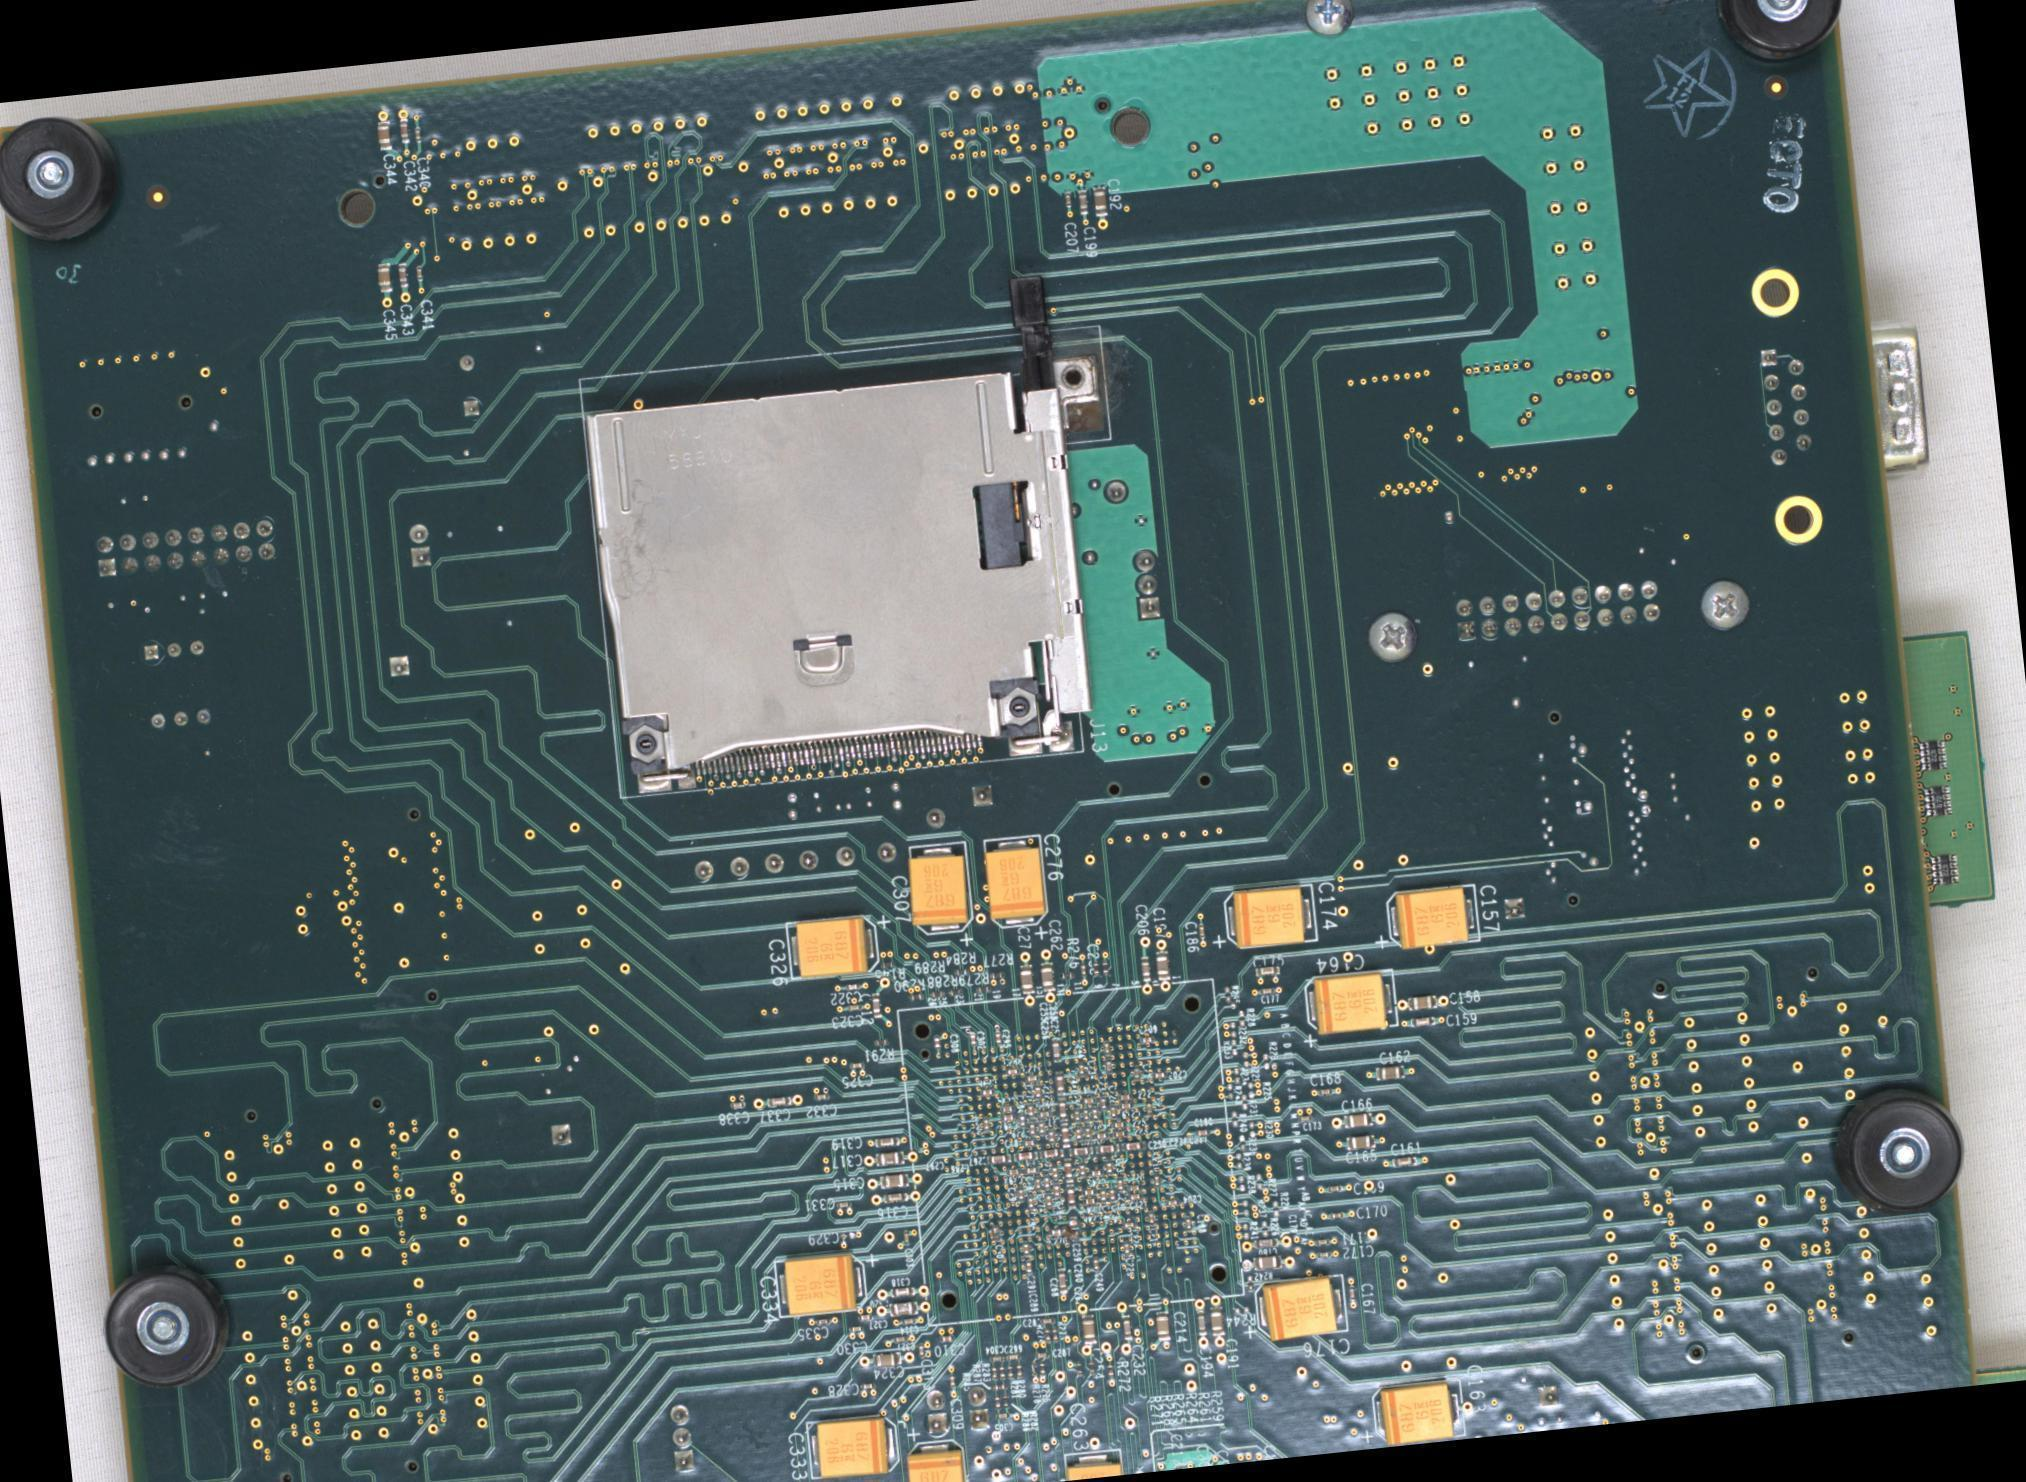Capacitor: (375, 120, 391, 149), (375, 262, 392, 292), (1208, 1305, 1224, 1335), (1406, 994, 1435, 1011), (1252, 1253, 1281, 1270), (1016, 963, 1032, 993), (1037, 961, 1053, 991), (1153, 950, 1169, 980), (1374, 1064, 1404, 1080), (875, 1150, 904, 1165), (1343, 1111, 1373, 1127), (878, 1172, 907, 1188), (1345, 1133, 1374, 1149), (1082, 1313, 1098, 1343), (1154, 1310, 1171, 1340), (1092, 186, 1107, 216), (888, 1300, 917, 1316), (871, 1351, 901, 1366), (1037, 1147, 1063, 1159), (766, 1095, 791, 1107), (883, 1191, 907, 1203), (1139, 955, 1150, 981), (1050, 1037, 1061, 1063), (1058, 1122, 1069, 1148), (1056, 1267, 1066, 1293), (1121, 1314, 1132, 1340), (397, 117, 408, 142), (868, 992, 880, 1018), (1254, 965, 1279, 976), (1409, 1016, 1434, 1027), (985, 1153, 1010, 1164), (1067, 1146, 1091, 1156), (1094, 1142, 1119, 1153), (1120, 1141, 1145, 1152), (1062, 1157, 1072, 1182), (1065, 1183, 1076, 1209), (1391, 1155, 1416, 1166), (890, 1285, 915, 1296), (396, 261, 407, 286), (1013, 1150, 1037, 1161), (1195, 1309, 1205, 1335), (1060, 1225, 1076, 1241), (1057, 1097, 1067, 1121), (873, 1137, 898, 1147), (1252, 1238, 1277, 1248), (1077, 189, 1087, 214), (1055, 1070, 1064, 1095), (987, 1225, 999, 1241), (1076, 1060, 1085, 1077), (812, 1092, 829, 1101), (1023, 1073, 1039, 1082), (979, 1087, 995, 1096), (1116, 1092, 1132, 1102), (1034, 1109, 1051, 1118), (1042, 1174, 1050, 1191), (1043, 1193, 1052, 1210), (916, 1341, 925, 1357), (843, 982, 859, 991), (845, 1002, 861, 1011), (999, 1112, 1015, 1121), (1111, 1128, 1127, 1137), (1093, 1131, 1109, 1140), (1049, 1163, 1058, 1179), (1051, 1182, 1060, 1198), (1115, 1176, 1123, 1194), (1125, 1183, 1141, 1192), (1108, 1185, 1117, 1201), (1120, 1220, 1136, 1228), (1039, 1316, 1055, 1324), (412, 125, 420, 141), (1138, 1035, 1154, 1043), (1101, 1039, 1109, 1056), (728, 1100, 745, 1108), (1132, 1064, 1140, 1081), (1033, 1083, 1041, 1100), (998, 1104, 1014, 1112), (1026, 1101, 1034, 1118), (1099, 1094, 1107, 1111), (981, 1115, 989, 1132), (1082, 1105, 1090, 1122), (1091, 1105, 1099, 1121), (1074, 1124, 1082, 1141), (1083, 1124, 1091, 1141), (1020, 1138, 1036, 1146), (1016, 1186, 1024, 1203), (1097, 1187, 1105, 1203), (1146, 1209, 1154, 1226), (1184, 1214, 1192, 1232), (1091, 1255, 1099, 1272), (414, 263, 422, 280), (1118, 1100, 1132, 1109), (1196, 922, 1203, 938), (848, 1060, 864, 1069), (1004, 1067, 1019, 1074), (1104, 1057, 1112, 1073), (1080, 1096, 1096, 1105), (1107, 1103, 1115, 1119), (1317, 1088, 1332, 1096), (1037, 1119, 1045, 1135), (1109, 1120, 1124, 1128), (1004, 1167, 1020, 1175), (1024, 1165, 1039, 1173), (1078, 1161, 1085, 1177), (1087, 1168, 1102, 1176), (1033, 1175, 1041, 1191), (835, 1201, 851, 1209), (1152, 1172, 1160, 1188), (1026, 1193, 1033, 1209), (1080, 1195, 1096, 1204), (1127, 1191, 1142, 1199), (1164, 1198, 1179, 1205), (1326, 1185, 1341, 1192), (902, 1229, 909, 1245), (1328, 1210, 1343, 1218), (1122, 1239, 1129, 1255), (1314, 1238, 1329, 1246), (1315, 1249, 1330, 1257), (856, 1314, 871, 1321), (847, 1325, 862, 1332), (1347, 1284, 1354, 1299), (988, 1355, 1003, 1362), (859, 1381, 875, 1389), (994, 1411, 1010, 1419), (1258, 986, 1273, 994), (1152, 1070, 1166, 1077), (1297, 1114, 1312, 1121), (815, 1317, 829, 1324), (893, 1335, 907, 1343), (938, 1334, 952, 1342), (1006, 1352, 1021, 1359), (1034, 1350, 1048, 1357), (932, 1034, 939, 1049), (969, 1031, 976, 1046), (994, 1030, 1001, 1046), (1017, 1113, 1024, 1128), (1145, 1100, 1152, 1115), (1046, 1128, 1053, 1143), (1194, 1128, 1209, 1135), (1022, 1240, 1029, 1256), (1063, 191, 1070, 206), (1079, 961, 1085, 975), (1073, 1107, 1079, 1121), (1027, 1121, 1034, 1136), (1105, 1160, 1111, 1173), (1081, 1188, 1095, 1194), (901, 1317, 915, 1323), (947, 1373, 954, 1388), (1025, 1260, 1031, 1274), (1048, 1229, 1060, 1234)
Connector: (576, 321, 1086, 799), (1861, 320, 1931, 484)
Electrolytic Capacitor: (1372, 1371, 1468, 1447), (902, 839, 974, 936), (1220, 881, 1318, 950), (1383, 882, 1481, 950), (783, 912, 880, 981), (1252, 1272, 1348, 1342), (981, 832, 1049, 929), (1302, 966, 1399, 1034), (772, 1251, 868, 1318), (804, 1412, 900, 1480)
Pads: (1241, 1198, 1250, 1217), (1259, 1220, 1268, 1238), (1232, 1305, 1250, 1314), (1227, 1021, 1236, 1038), (1224, 1082, 1233, 1100), (1234, 1151, 1243, 1169), (1270, 1199, 1279, 1216), (1240, 1222, 1249, 1239), (1245, 1274, 1253, 1292), (1222, 984, 1230, 1002), (1246, 1080, 1254, 1098), (1236, 1173, 1245, 1193), (1253, 1172, 1262, 1191), (1236, 1009, 1245, 1026), (1228, 1039, 1237, 1056), (1241, 1050, 1249, 1067), (1230, 1066, 1238, 1084), (1239, 1093, 1248, 1111), (1229, 1109, 1237, 1127), (1248, 1120, 1255, 1137), (1261, 1052, 1269, 1069), (1236, 1132, 1245, 1149)
Pins: (1449, 576, 1663, 644), (90, 514, 278, 579), (689, 838, 898, 885), (1752, 338, 1814, 473), (138, 636, 213, 731), (1129, 546, 1163, 621), (665, 1400, 696, 1473), (454, 351, 485, 420), (403, 518, 434, 568), (922, 1388, 948, 1435), (965, 1384, 989, 1430), (1099, 474, 1129, 505), (968, 781, 993, 808), (547, 1120, 572, 1148), (386, 653, 411, 679), (1501, 893, 1526, 920), (921, 804, 946, 829), (1534, 1382, 1558, 1406)
Resistor: (1929, 852, 1958, 885), (1919, 738, 1947, 771), (1923, 784, 1951, 816), (907, 991, 924, 1000), (991, 1382, 1007, 1390), (946, 988, 963, 996), (871, 1037, 888, 1045), (1050, 1326, 1058, 1343), (1075, 1360, 1082, 1376), (879, 960, 895, 968), (952, 967, 968, 976), (988, 970, 1004, 978), (974, 985, 990, 993), (1043, 1328, 1050, 1343), (990, 1364, 997, 1379), (1037, 1360, 1044, 1375), (1104, 1361, 1112, 1376), (993, 1393, 1000, 1408), (1091, 960, 1098, 976), (1006, 1364, 1013, 1379), (1101, 959, 1108, 974), (1059, 971, 1073, 977), (929, 989, 944, 996), (1002, 1393, 1009, 1407), (1015, 1364, 1021, 1377), (999, 1364, 1004, 1378), (1088, 1360, 1093, 1374)
